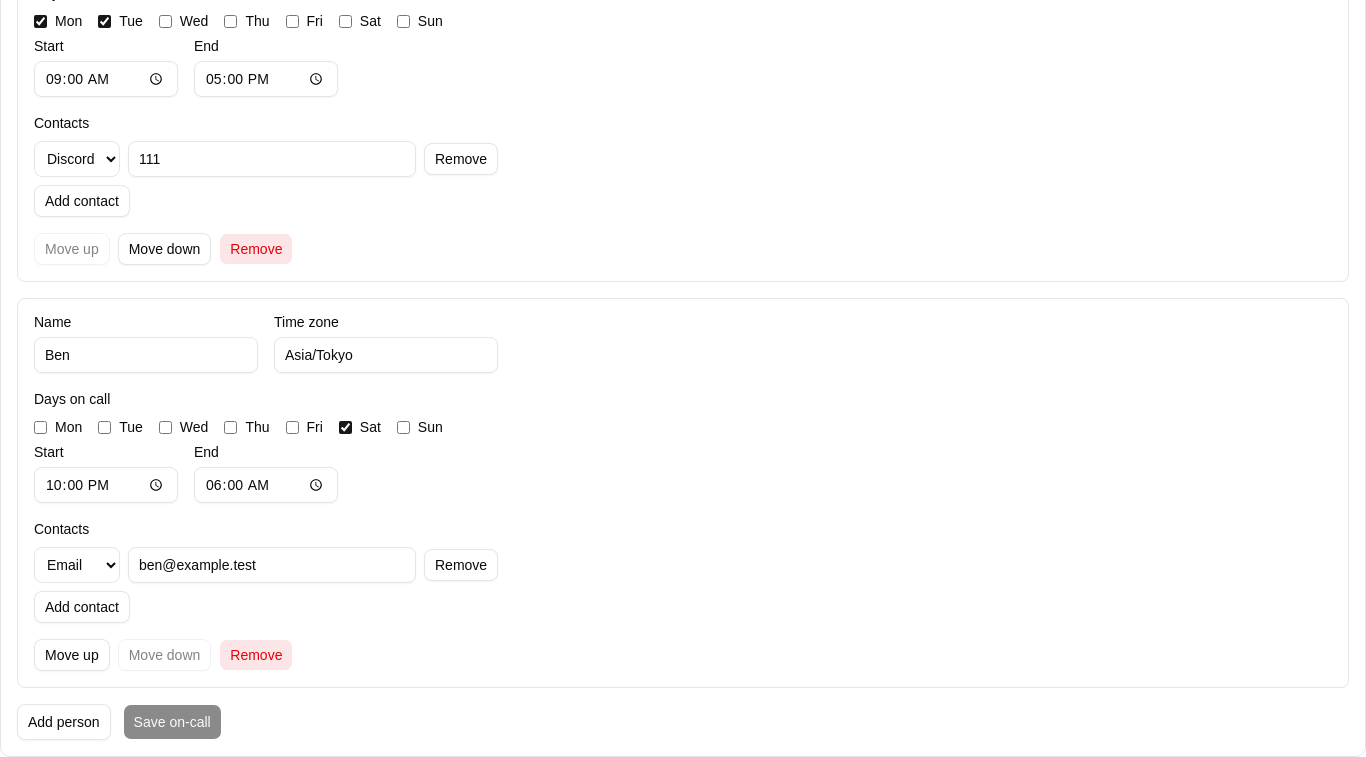
Scenario: reorders people and numbers the escalation order by the new position
(page scrolled)
Click the button with aria-label "Move person 2 up" at (72, 655), box [34, 639, 110, 671]
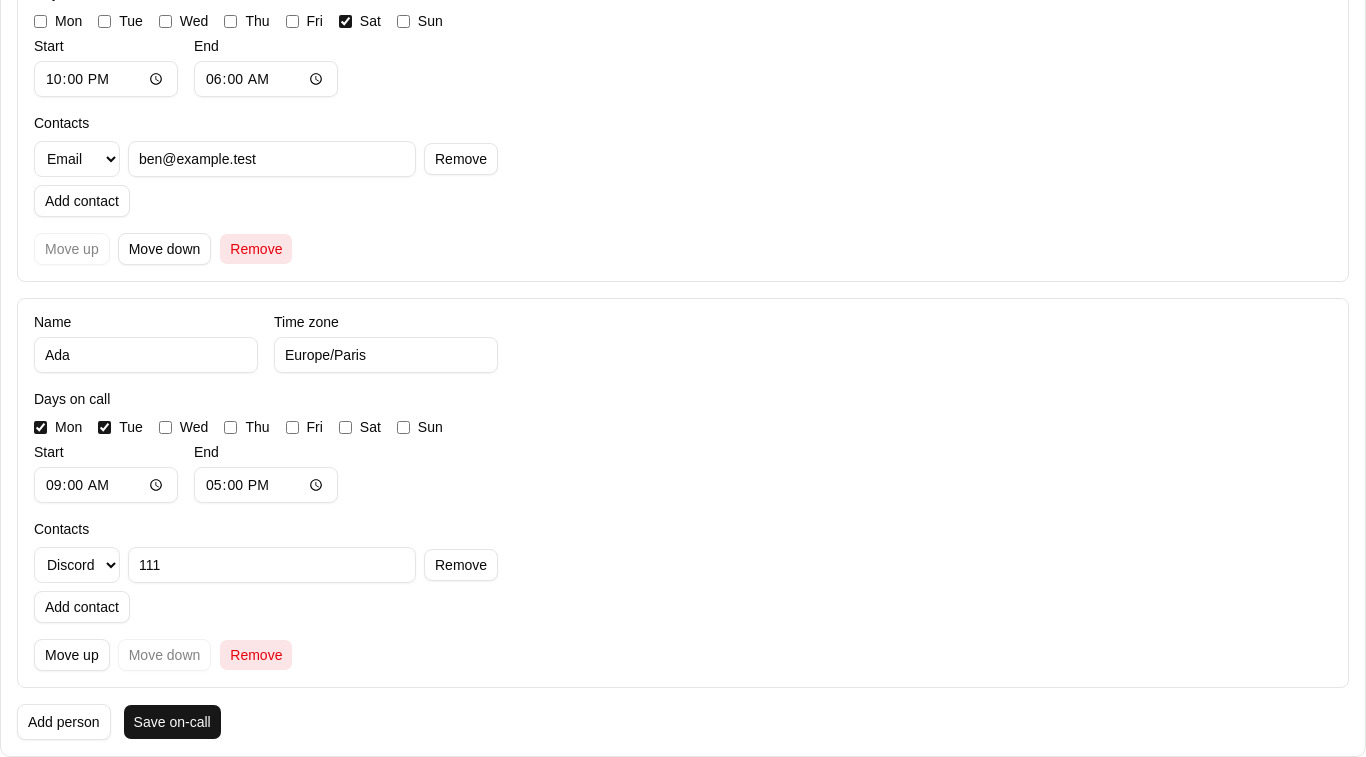
Click the button "Save on-call" at (172, 722), box [123, 704, 222, 740]
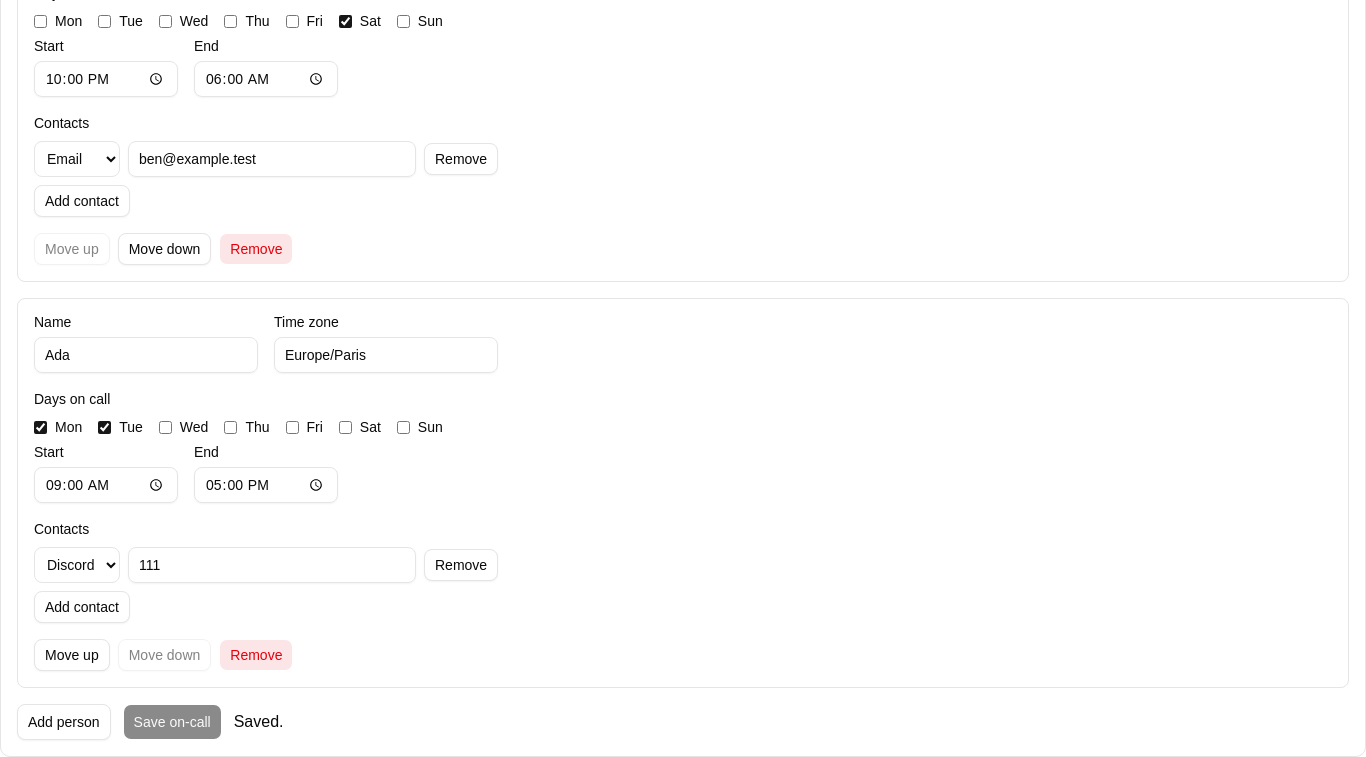
Expected: the text "Saved." is shown, [234, 710, 284, 734]
